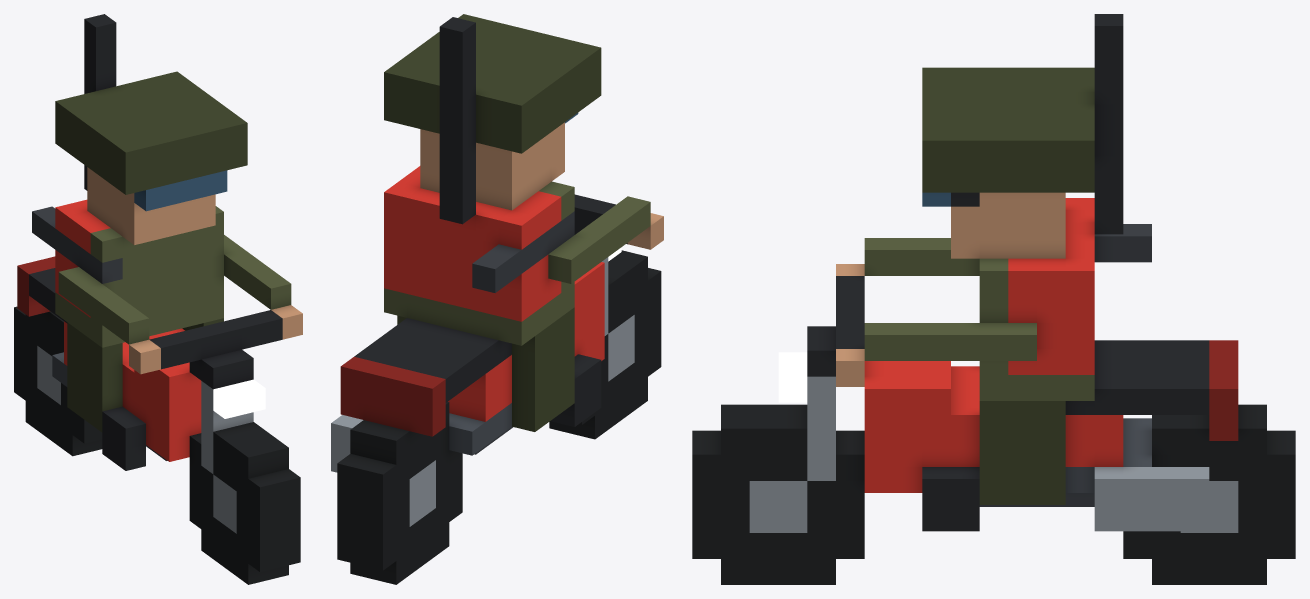
The model's file is cm_scout_0.glb.
3 views of the same model, side by side, from view 1: azimuth 30°, elevation 25°; view 2: azimuth 150°, elevation 25°; view 3: azimuth 270°, elevation 25° (orthographic). The views are drawn at different scales.
Visible parts, largest first — view 1: cm_scout_0_body; view 2: cm_scout_0_body; view 3: cm_scout_0_body.
Part boxes in pixels (left/top/right/bottom): cm_scout_0_body: left=14, top=14, right=302, bottom=584; cm_scout_0_body: left=331, top=14, right=663, bottom=584; cm_scout_0_body: left=692, top=14, right=1295, bottom=584.
Bounding box in the file's own units: 0.5 × 1.31 × 1.31.
Materials: 1 (1 with a texture image).
